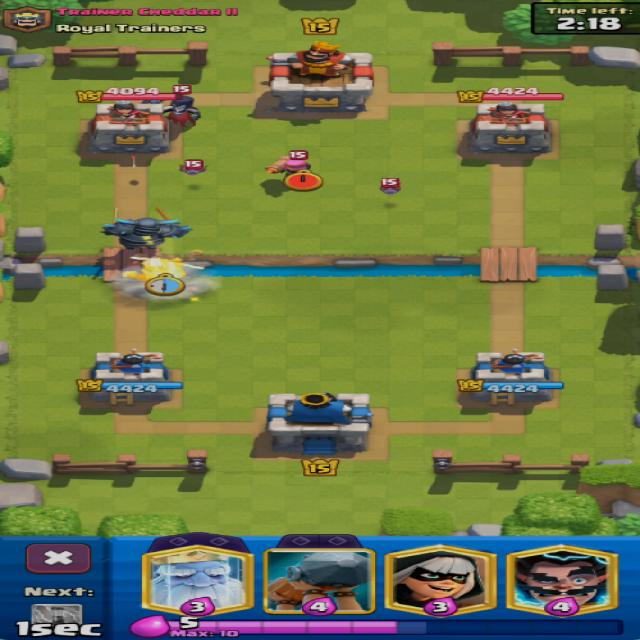Enemy-Bat: (179, 160, 206, 175), (380, 187, 398, 194)
Enemy-Firecracker: (268, 153, 310, 176)
Enemy-KingTower: (269, 42, 372, 115)
Enemy-NightWitch: (164, 95, 200, 127)
Enemy-PrincessTower: (90, 99, 168, 154), (470, 102, 549, 154)
